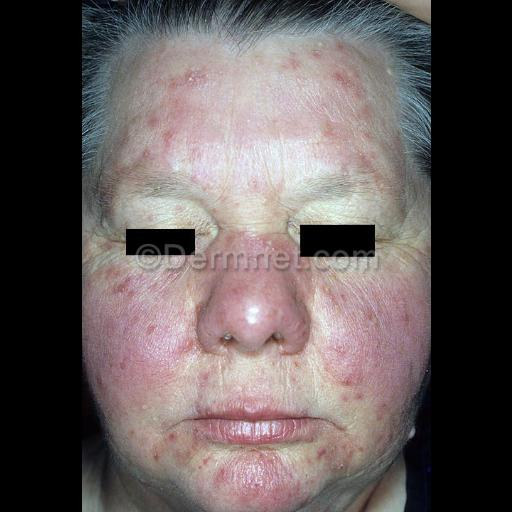Skin_Lesion: (220, 460, 294, 500), (313, 436, 353, 478), (314, 274, 348, 318), (330, 60, 362, 96), (134, 318, 162, 344), (114, 270, 140, 298), (343, 364, 365, 392), (154, 425, 178, 449), (181, 66, 205, 88), (276, 55, 300, 75), (331, 338, 351, 362), (176, 336, 194, 358), (149, 120, 165, 136), (358, 131, 370, 139)
